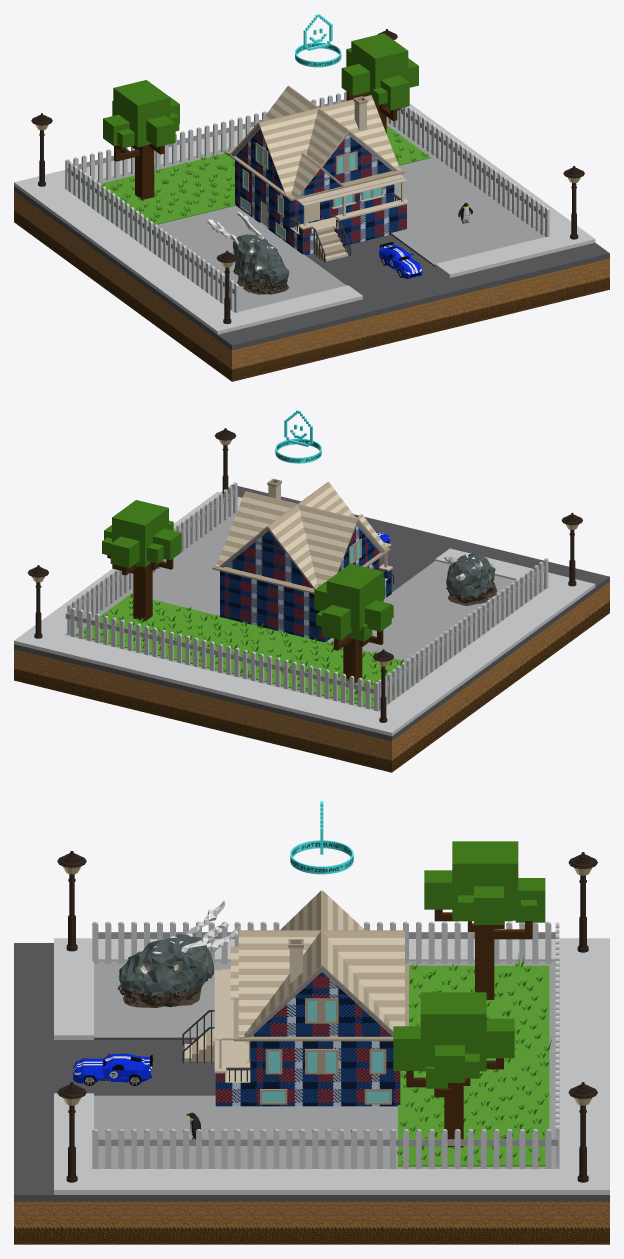
3 views of the same model, one above another, from view 1: azimuth 30°, elevation 25°; view 2: azimuth 150°, elevation 25°; view 3: azimuth 270°, elevation 25° (orthographic). The views are drawn at different scales.
Parts seen in each view (by area): view 1: Cube.004, Cube.171, OBJRANDOM_METEORITE, VEHICLES_RACING_CAR, TYPE_PREMIUM; view 2: Cube.004, Cube.171, OBJRANDOM_METEORITE, TYPE_PREMIUM; view 3: Cube.004, Cube.171, OBJRANDOM_METEORITE, VEHICLES_RACING_CAR, TYPE_PREMIUM.
Part boxes in pixels (x1,y1,x2,y2): Cube.004: (14, 29, 609, 381); Cube.171: (226, 85, 409, 262); OBJRANDOM_METEORITE: (207, 211, 289, 294); VEHICLES_RACING_CAR: (379, 242, 422, 278); TYPE_PREMIUM: (295, 14, 341, 67); Cube.004: (14, 428, 609, 772); Cube.171: (212, 478, 394, 642); OBJRANDOM_METEORITE: (444, 553, 497, 605); TYPE_PREMIUM: (275, 410, 321, 463); Cube.004: (14, 841, 609, 1244); Cube.171: (182, 890, 408, 1106); OBJRANDOM_METEORITE: (117, 901, 240, 1007); VEHICLES_RACING_CAR: (73, 1053, 152, 1085); TYPE_PREMIUM: (290, 801, 353, 874).
Size of the model in its own units: 4000 by 2444 by 4000.
37 materials, 5 textured.
